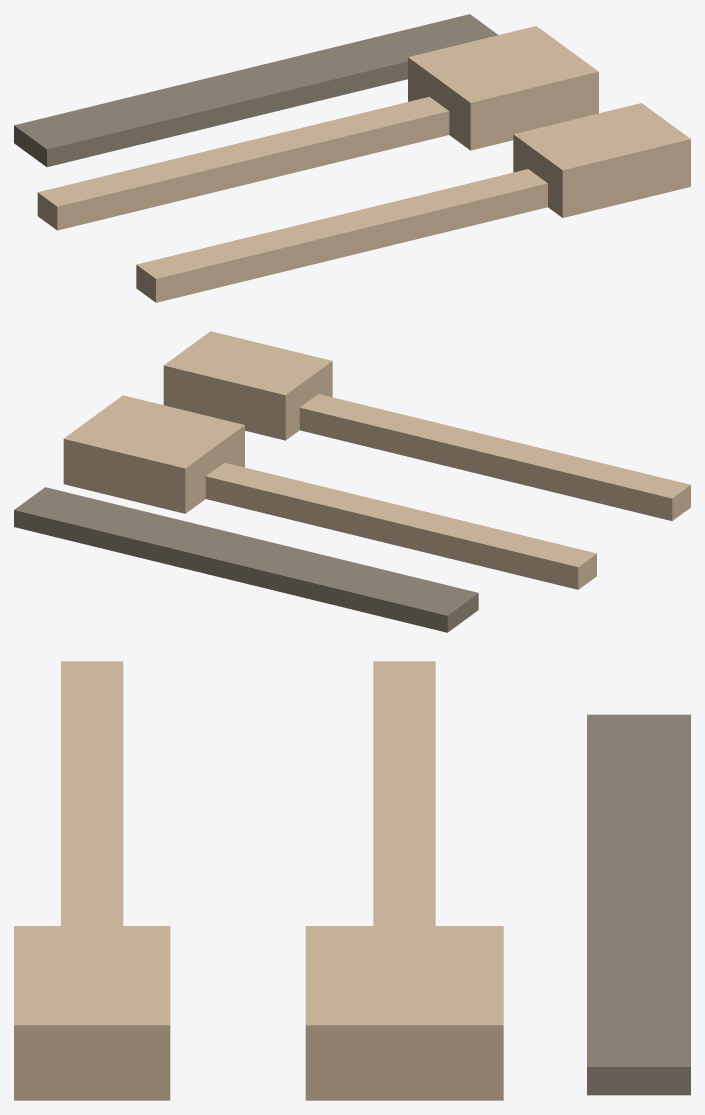
File: prop-dosing-spoon-set-ap1.fbx
3 views of the same model, one above another, from view 1: azimuth 30°, elevation 25°; view 2: azimuth 150°, elevation 25°; view 3: azimuth 270°, elevation 25° (orthographic). The views are drawn at different scales.
Parts seen in each view (by area): view 1: prop-dosing-spoon-set-ap1; view 2: prop-dosing-spoon-set-ap1; view 3: prop-dosing-spoon-set-ap1.
Boxes of the visible parts, x1=… form: prop-dosing-spoon-set-ap1: x1=14, y1=14, x2=690, y2=302; prop-dosing-spoon-set-ap1: x1=14, y1=331, x2=690, y2=632; prop-dosing-spoon-set-ap1: x1=14, y1=661, x2=690, y2=1100.
Size of the model in its own units: 18.25 by 1.6 by 13.
